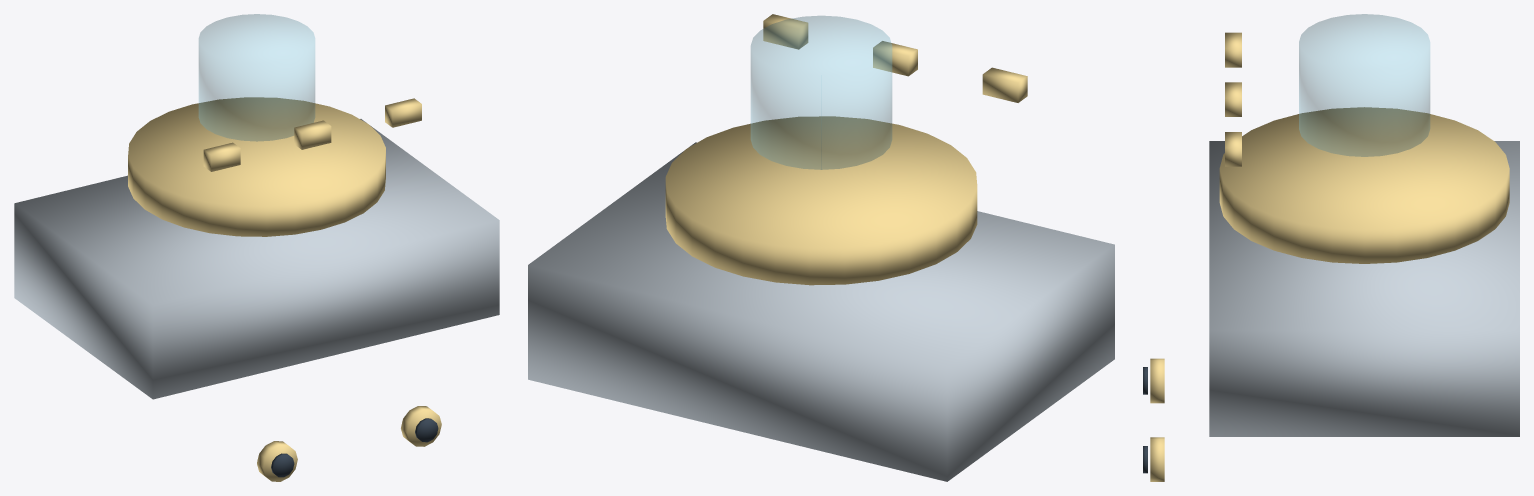
Rendered from 80_L93_PrecisionMicrobalance.glb.
The picture shows the model from 3 angles, left to right: view 1: azimuth 30°, elevation 25°; view 2: azimuth 150°, elevation 25°; view 3: azimuth 270°, elevation 25°; orthographic projection. The views are drawn at different scales.
Parts seen in each view (by area): view 1: L92_PrecisionMicrobalance_Part_0000, L92_PrecisionMicrobalance_Part_0001, L92_PrecisionMicrobalance_Part_0002, L92_PrecisionMicrobalance_Part_0003, L92_PrecisionMicrobalance_Part_0006, L92_PrecisionMicrobalance_Part_0004; view 2: L92_PrecisionMicrobalance_Part_0000, L92_PrecisionMicrobalance_Part_0001, L92_PrecisionMicrobalance_Part_0002, L92_PrecisionMicrobalance_Part_0003; view 3: L92_PrecisionMicrobalance_Part_0000, L92_PrecisionMicrobalance_Part_0001, L92_PrecisionMicrobalance_Part_0002, L92_PrecisionMicrobalance_Part_0003, L92_PrecisionMicrobalance_Part_0004, L92_PrecisionMicrobalance_Part_0006.
Boxes of the visible parts, x1=… form: L92_PrecisionMicrobalance_Part_0000: x1=14, y1=119, x2=499, y2=399; L92_PrecisionMicrobalance_Part_0001: x1=128, y1=97, x2=385, y2=236; L92_PrecisionMicrobalance_Part_0002: x1=199, y1=14, x2=314, y2=141; L92_PrecisionMicrobalance_Part_0003: x1=203, y1=98, x2=421, y2=171; L92_PrecisionMicrobalance_Part_0006: x1=401, y1=406, x2=441, y2=446; L92_PrecisionMicrobalance_Part_0004: x1=257, y1=441, x2=297, y2=481; L92_PrecisionMicrobalance_Part_0000: x1=528, y1=142, x2=1114, y2=481; L92_PrecisionMicrobalance_Part_0001: x1=665, y1=116, x2=977, y2=285; L92_PrecisionMicrobalance_Part_0002: x1=751, y1=16, x2=891, y2=169; L92_PrecisionMicrobalance_Part_0003: x1=763, y1=14, x2=1027, y2=102; L92_PrecisionMicrobalance_Part_0000: x1=1209, y1=141, x2=1519, y2=436; L92_PrecisionMicrobalance_Part_0001: x1=1219, y1=107, x2=1509, y2=263; L92_PrecisionMicrobalance_Part_0002: x1=1299, y1=14, x2=1429, y2=156; L92_PrecisionMicrobalance_Part_0003: x1=1225, y1=32, x2=1241, y2=166; L92_PrecisionMicrobalance_Part_0004: x1=1150, y1=358, x2=1164, y2=403; L92_PrecisionMicrobalance_Part_0006: x1=1150, y1=437, x2=1164, y2=481.
Size of the model in its own units: 1.3 by 1.28 by 1.09.
